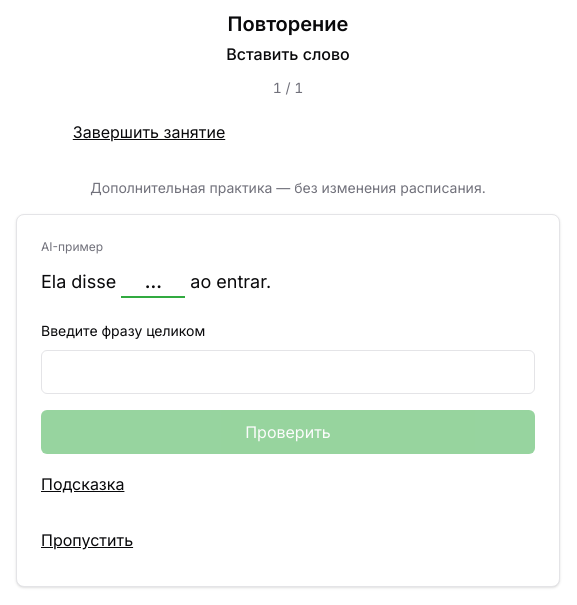
does not submit an IME composition and allows a neutral mismatch
Type "boa tarde" into the field at (288, 372), box top-left (41, 350), bottom-right (535, 394)
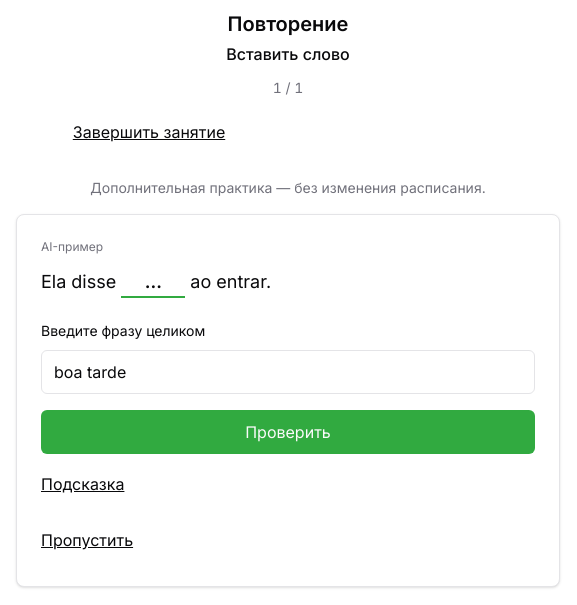
Submit the form, box top-left (41, 318), bottom-right (535, 506)
Expected: the text "В этом задании изучаем другое слово." is not shown
Submit the form, box top-left (41, 318), bottom-right (535, 506)
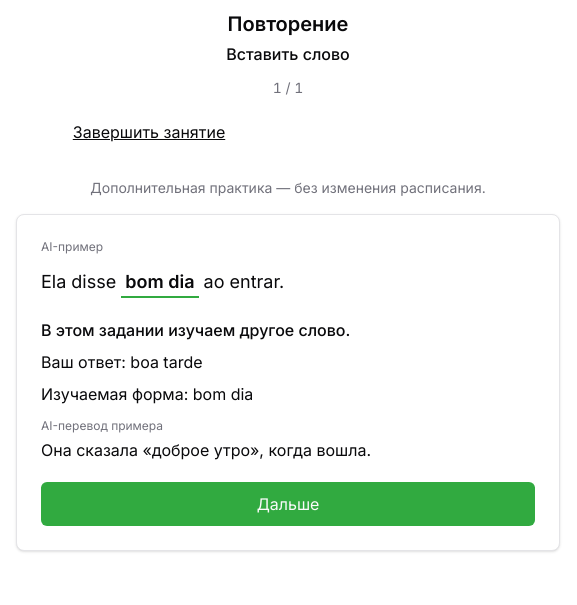
Expected: the text "В этом задании изучаем другое слово." is shown, top-left (41, 320), bottom-right (350, 340)
Expected: the text "Изучаемая форма: bom dia" is shown, top-left (41, 384), bottom-right (253, 404)
